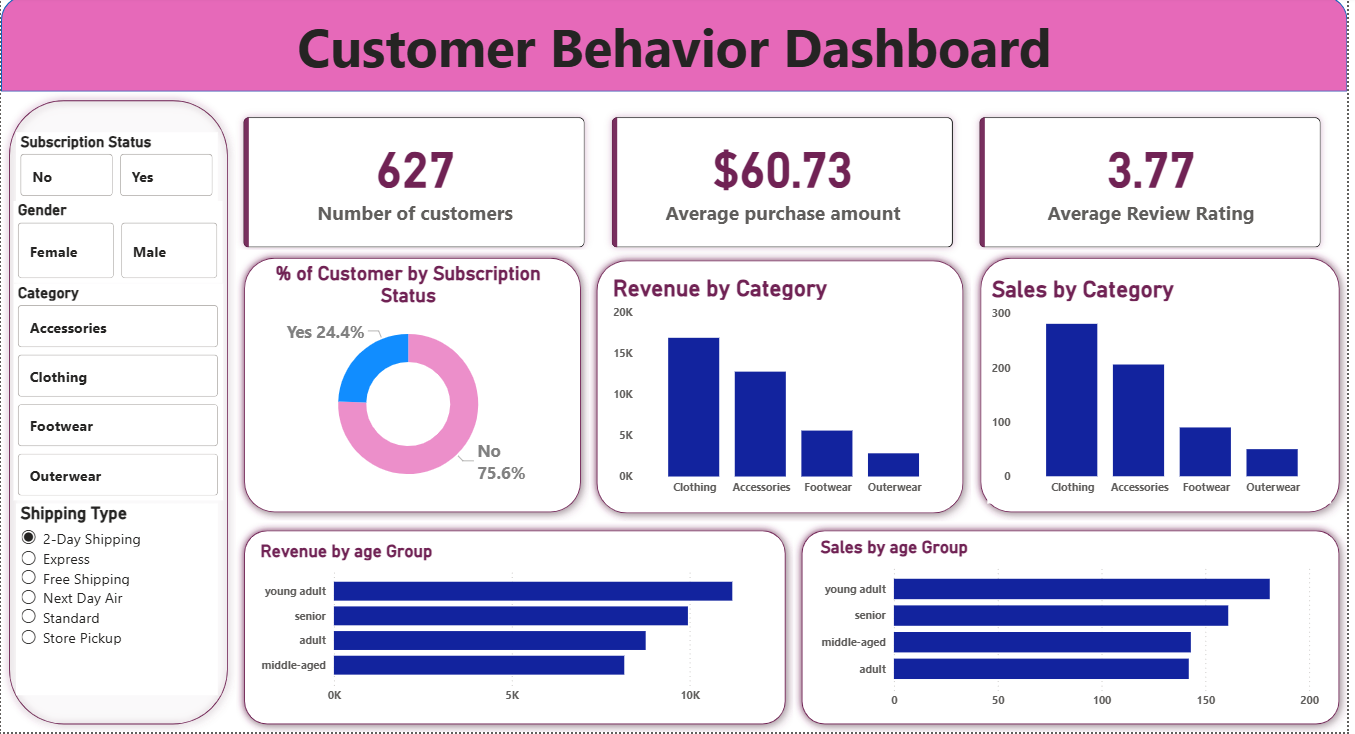

Layout of this report page (visuals, bound fields, positions):
{"tool":"powerbi","page":{"name":"Page 1","canvas":[1500,820],"ordinal":0},"visuals":[{"type":"cardVisual","fields":{"Data":["customer_behaviour customer.Number of customers","customer_behaviour customer.Avg purchase amount","customer_behaviour customer.Average Review Rating"]},"box":[241.7,106.7,1258.3,201.7],"z":0},{"type":"shape","box":[0,0,1500,106.7],"z":1000},{"type":"textbox","box":[0,11.3,1500.3,117.4],"z":2000},{"type":"shape","box":[261.7,283.3,393.3,301.7],"z":3000},{"type":"donutChart","title":"% of Customer by Subscription Status","fields":{"Category":["customer_behaviour customer.subscription_status"],"Y":["CountNonNull(customer_behaviour customer.customer_id)"]},"box":[290,296.7,328.3,268.3],"z":4000},{"type":"shape","box":[1081.7,283.3,418.3,301.7],"z":5000},{"type":"shape","box":[655,285,426.7,300],"z":6000},{"type":"clusteredColumnChart","title":"Revenue by Category ","fields":{"Y":["Sum(customer_behaviour customer.purchase_amount)"],"Category":["customer_behaviour customer.category"]},"box":[676.7,310,383.3,255],"z":7000},{"type":"clusteredColumnChart","title":"Sales by Category ","fields":{"Y":["CountNonNull(customer_behaviour customer.customer_id)"],"Category":["customer_behaviour customer.category"]},"box":[1098.3,311.7,383.3,253.3],"z":8000},{"type":"shape","box":[0,106.7,261.7,713.3],"z":9000},{"type":"advancedSlicerVisual","title":"Subscription Status","fields":{"Values":["customer_behaviour customer.subscription_status"]},"box":[16.7,151.7,225,76.7],"z":10000},{"type":"advancedSlicerVisual","title":"Gender","fields":{"Values":["customer_behaviour customer.gender"]},"box":[14.3,228.6,232.9,91.4],"z":11000},{"type":"advancedSlicerVisual","title":"Category","fields":{"Values":["customer_behaviour customer.category"]},"box":[13.3,320,233.3,241.7],"z":12000},{"type":"listSlicer","title":"Shipping Type","fields":{"Values":["customer_behaviour customer.shipping_type"]},"box":[16.7,565,225,213.3],"z":13000},{"type":"shape","box":[261.4,585.7,621.4,234.3],"z":15000},{"type":"shape","box":[882.9,585.7,617.1,234.3],"z":16000},{"type":"clusteredBarChart","title":"Sales by age Group","fields":{"Y":["CountNonNull(customer_behaviour customer.customer_id)"],"Category":["customer_behaviour customer.age_grp"]},"box":[908.6,602.9,565.7,200],"z":17000},{"type":"clusteredBarChart","title":"Revenue by age Group","fields":{"Y":["Sum(customer_behaviour customer.purchase_amount)"],"Category":["customer_behaviour customer.age_grp"]},"box":[284.3,607.1,578.6,190],"z":18000}]}

Visuals, with their boxes in screenshot pixels (x1, y1, x2, y2), scaled from the page's 1500x820 canvas onto the 1355x734 screenshot:
cardVisual - customer_behaviour customer.Number of customers x customer_behaviour customer.Avg purchase amount: (left=218, top=96, right=1354, bottom=276)
shape: (left=0, top=0, right=1354, bottom=96)
textbox: (left=0, top=10, right=1354, bottom=115)
shape: (left=236, top=254, right=592, bottom=524)
"% of Customer by Subscription Status" donutChart: (left=262, top=266, right=559, bottom=506)
shape: (left=977, top=254, right=1354, bottom=524)
shape: (left=592, top=255, right=977, bottom=524)
"Revenue by Category " clusteredColumnChart: (left=611, top=277, right=958, bottom=506)
"Sales by Category " clusteredColumnChart: (left=992, top=279, right=1338, bottom=506)
shape: (left=0, top=96, right=236, bottom=733)
"Subscription Status" advancedSlicerVisual: (left=15, top=136, right=218, bottom=204)
"Gender" advancedSlicerVisual: (left=13, top=205, right=223, bottom=286)
"Category" advancedSlicerVisual: (left=12, top=286, right=223, bottom=503)
"Shipping Type" listSlicer: (left=15, top=506, right=218, bottom=697)
shape: (left=236, top=524, right=797, bottom=733)
shape: (left=798, top=524, right=1354, bottom=733)
"Sales by age Group" clusteredBarChart: (left=821, top=540, right=1332, bottom=719)
"Revenue by age Group" clusteredBarChart: (left=257, top=543, right=779, bottom=714)
